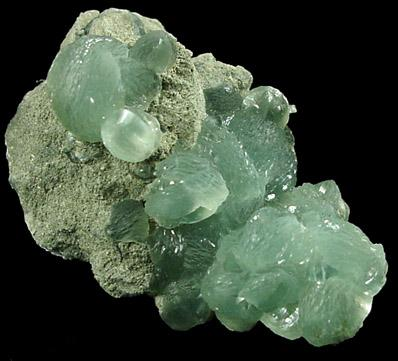prehnite: (105, 58, 387, 346), (47, 30, 176, 162)
